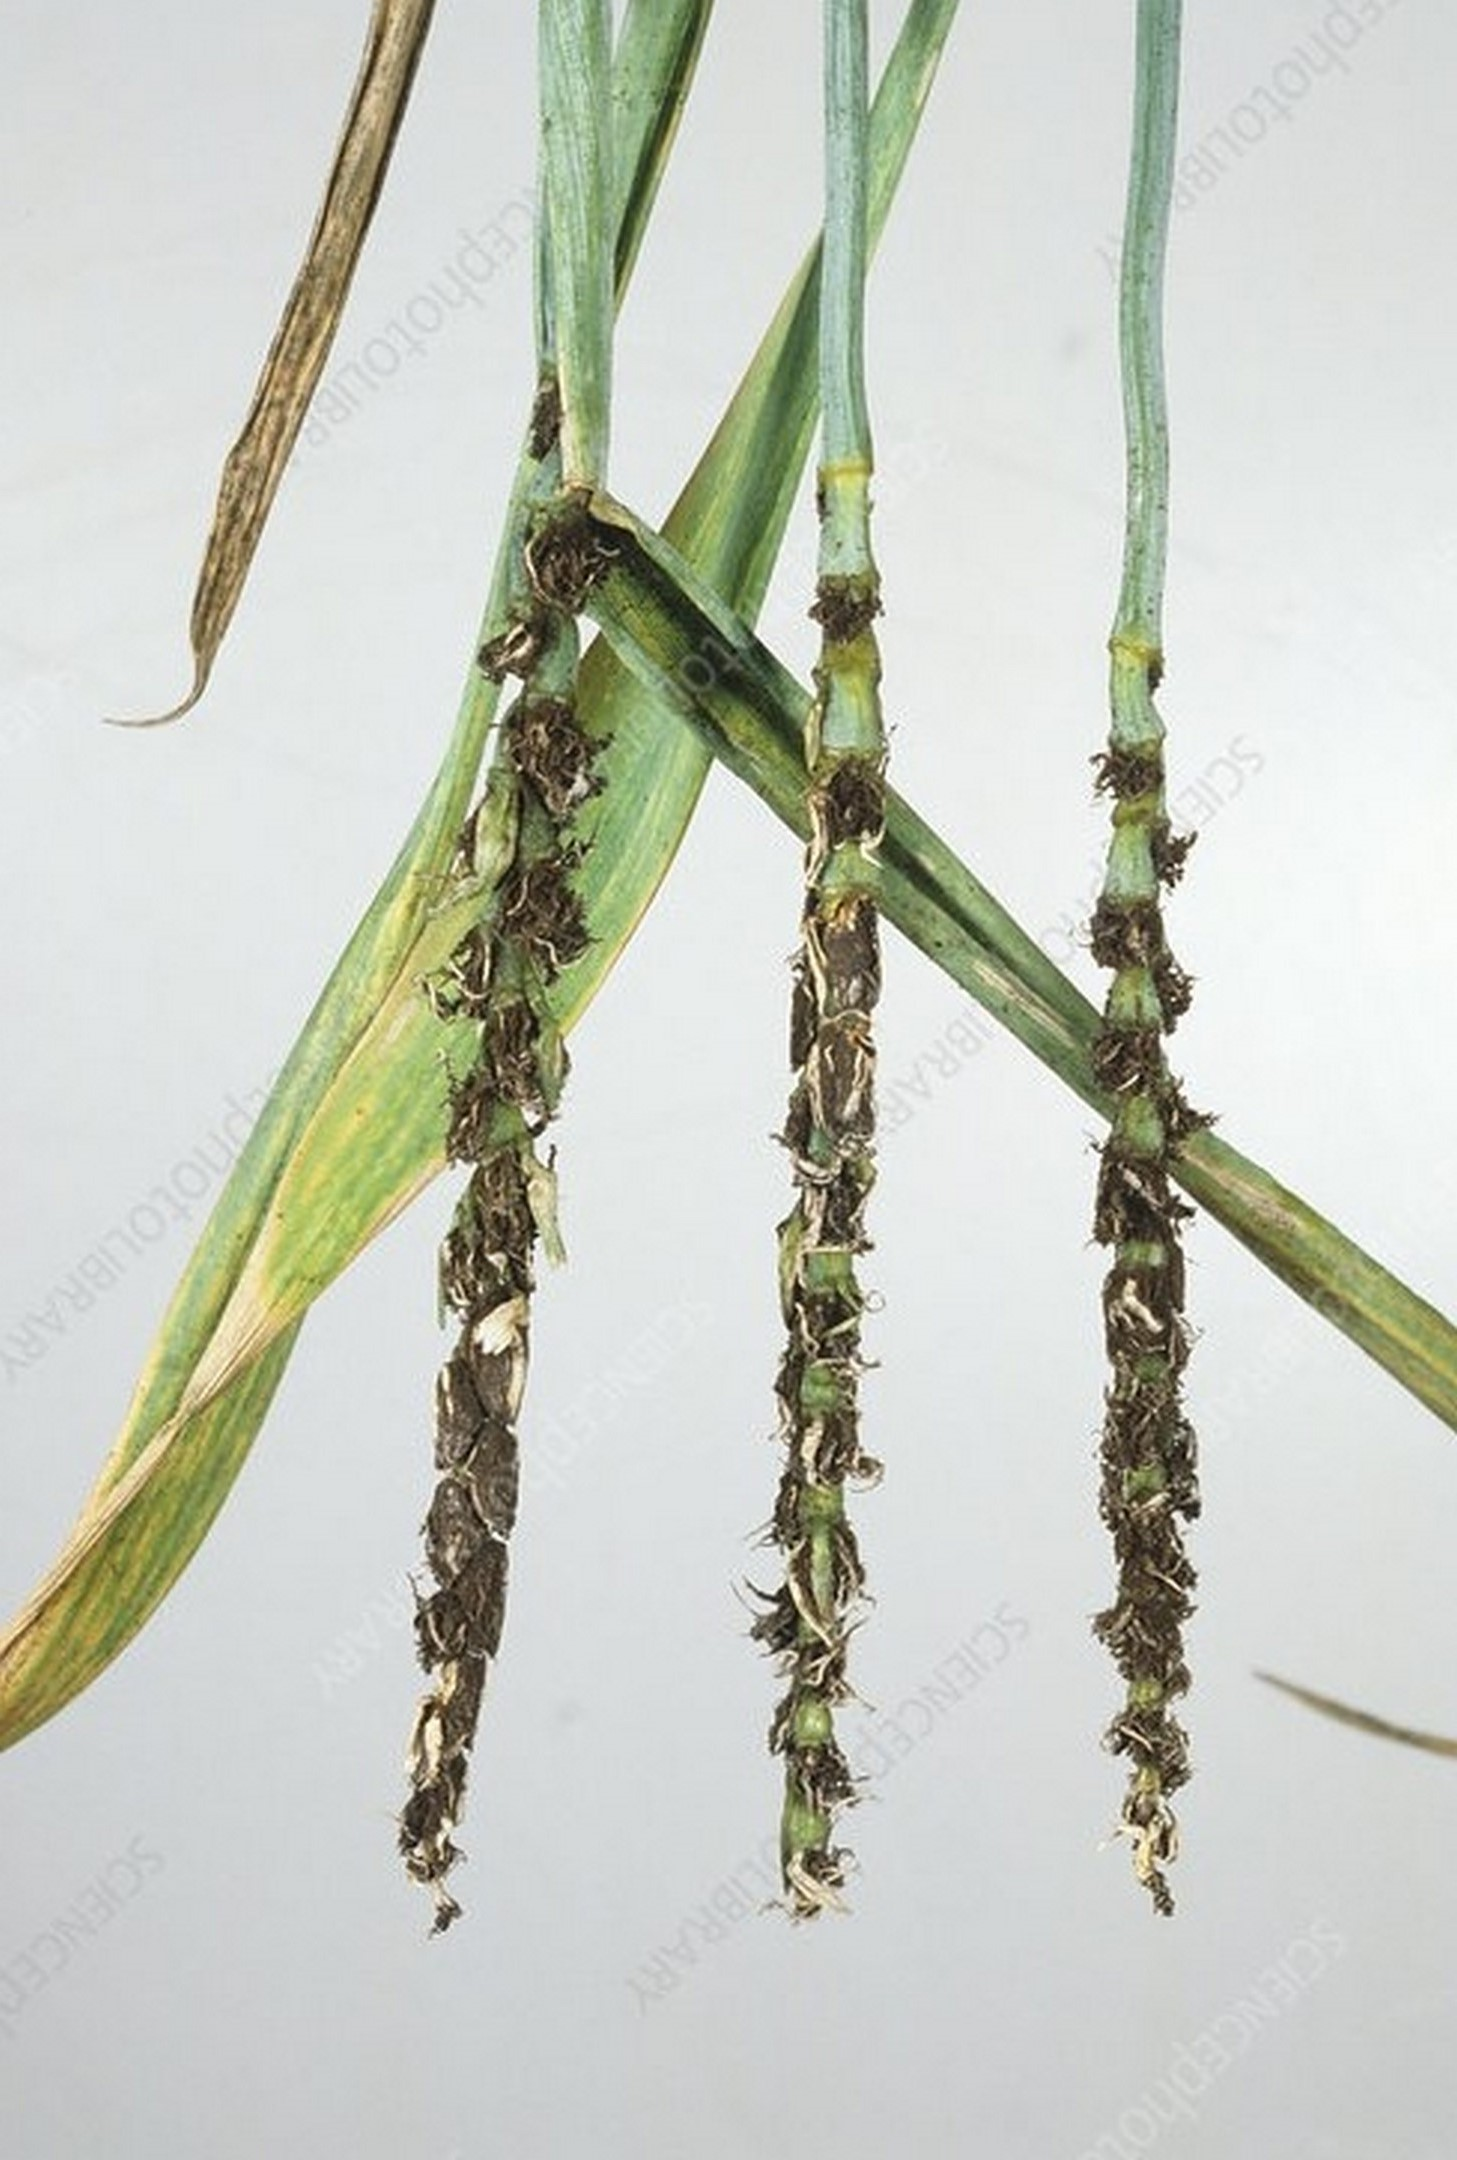Wheat Loose Smut: (384, 622, 1280, 1949)
